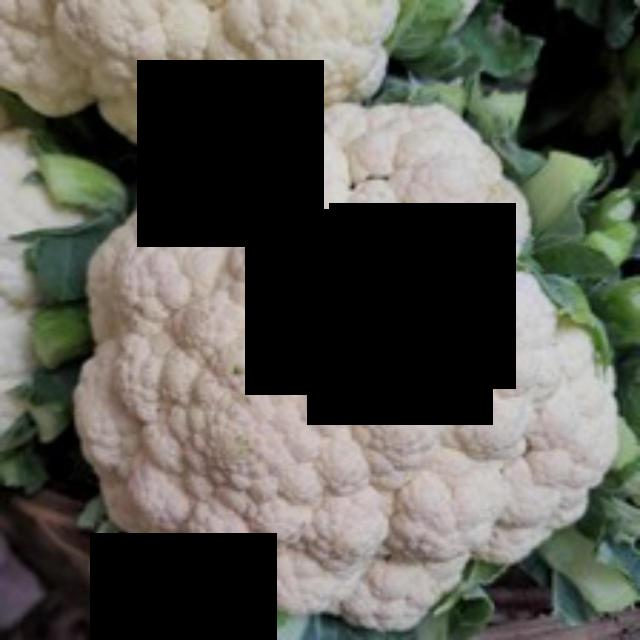cauliflower: (72, 106, 626, 622)
